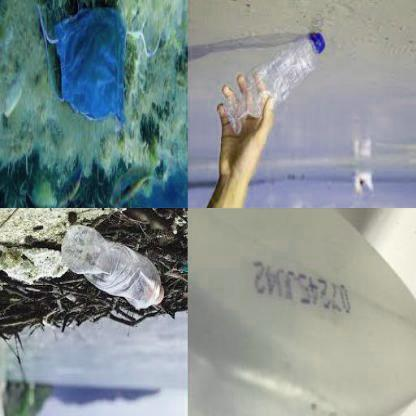Plastic: (34, 3, 139, 124), (227, 30, 329, 136), (58, 218, 167, 310)
